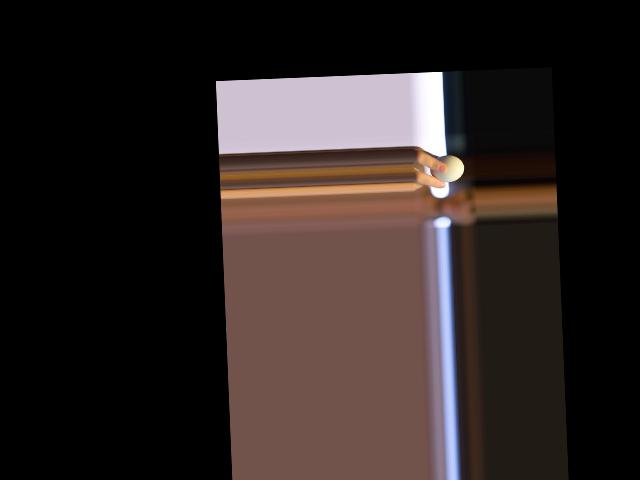egg: (429, 155, 464, 183)
